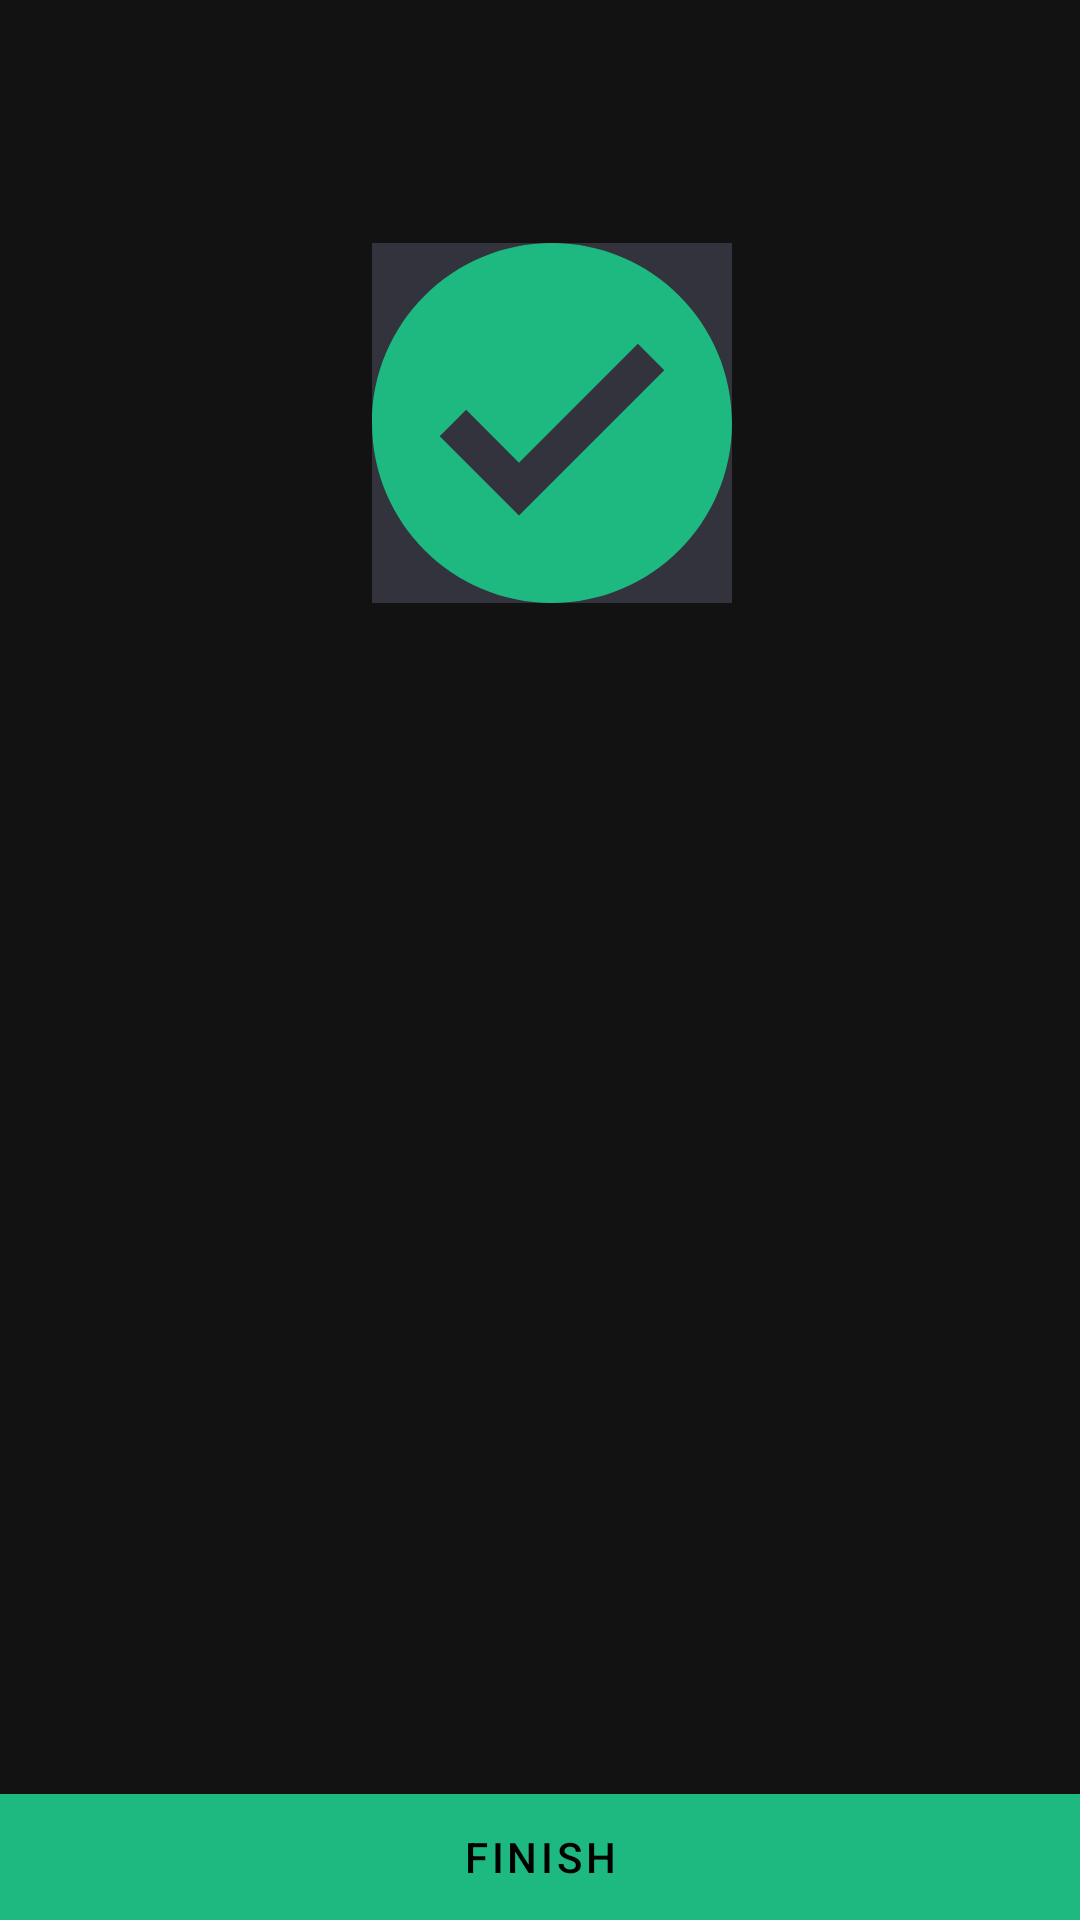

Screen size 1080 x 1920. Icon name, then its center in pixels as (x=x, y=y):
checked: (x=552, y=423)
